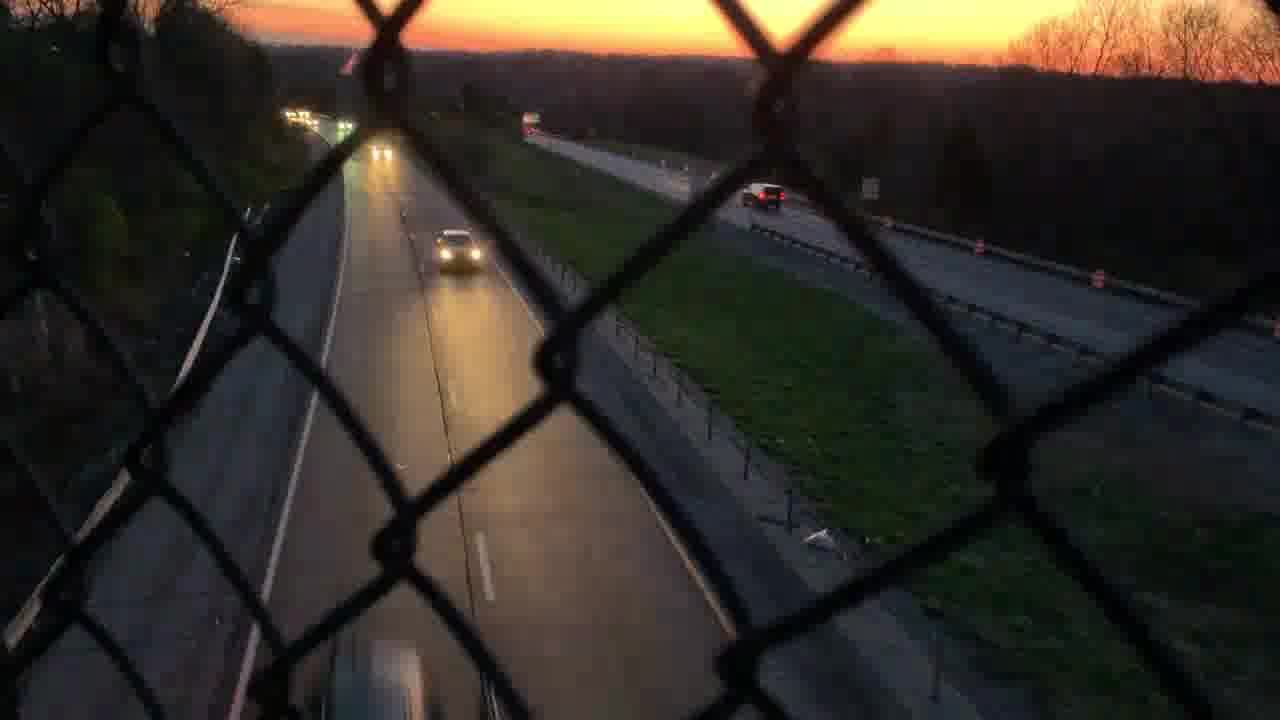largeCar: (430, 227, 480, 278), (741, 182, 788, 211)
